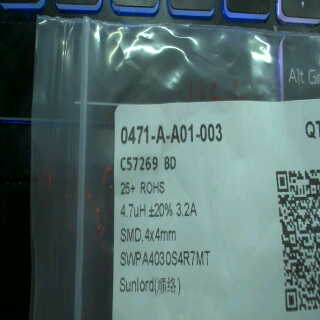4.7uH: (116, 200, 147, 223)
